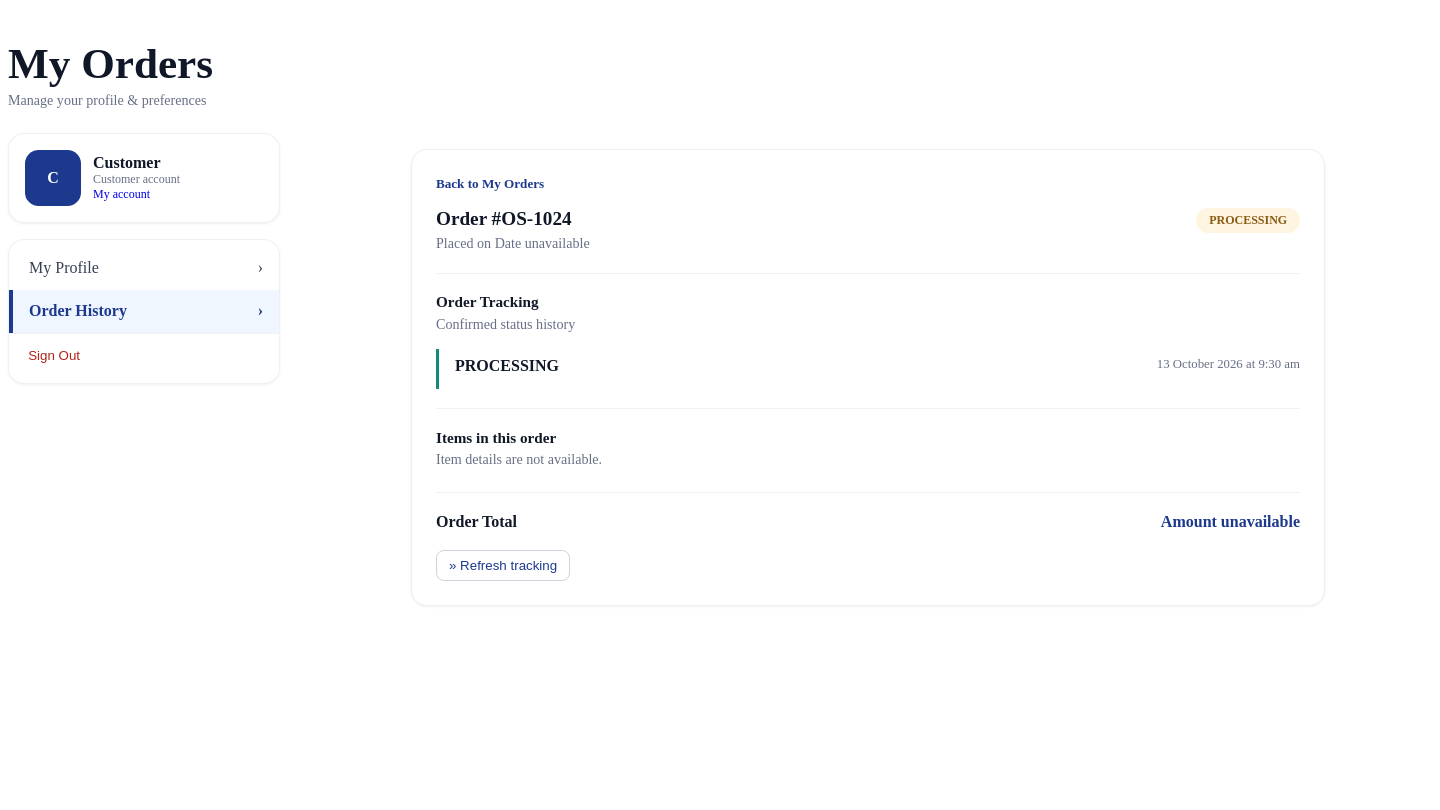
Test case: OrderDetailsPage › refreshes tracking with the latest backend status
The image size is (1440, 810).
expect the text "PROCESSING" in the row of "OS-1024" is shown: met, box [1209, 213, 1287, 227]
Note: Refresh tracking from backend
Click the button "» Refresh tracking": (503, 566) [436, 550, 570, 581]
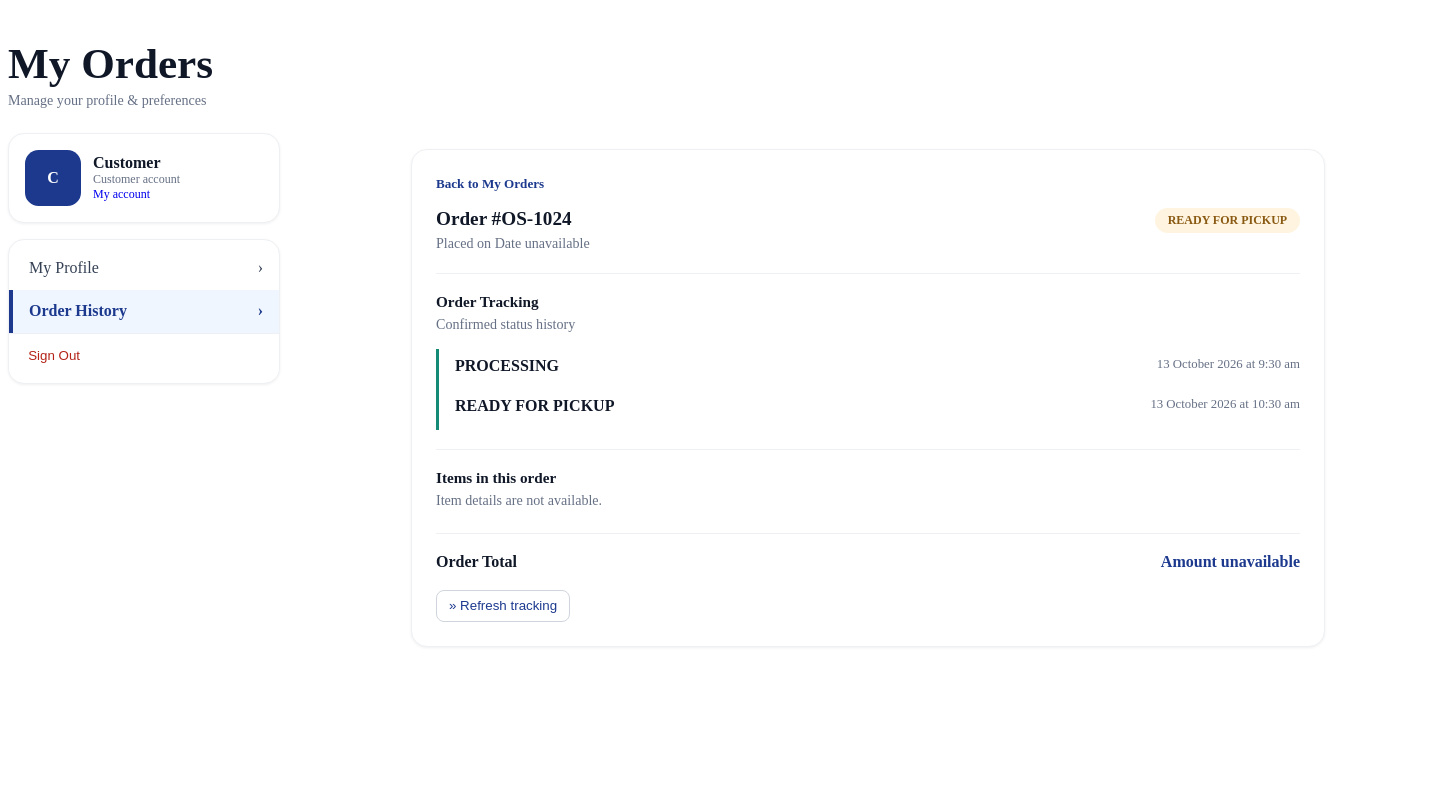
expect the text "READY FOR PICKUP" in the row of "OS-1024" is shown: met, box [1168, 213, 1287, 227]
